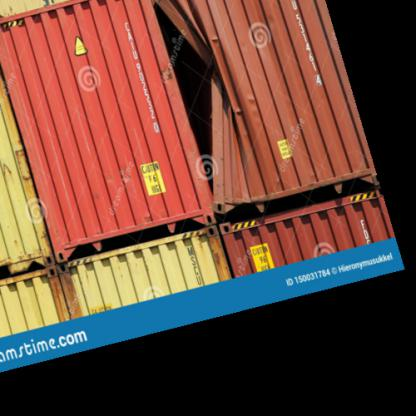Damage: (144, 9, 235, 193)
